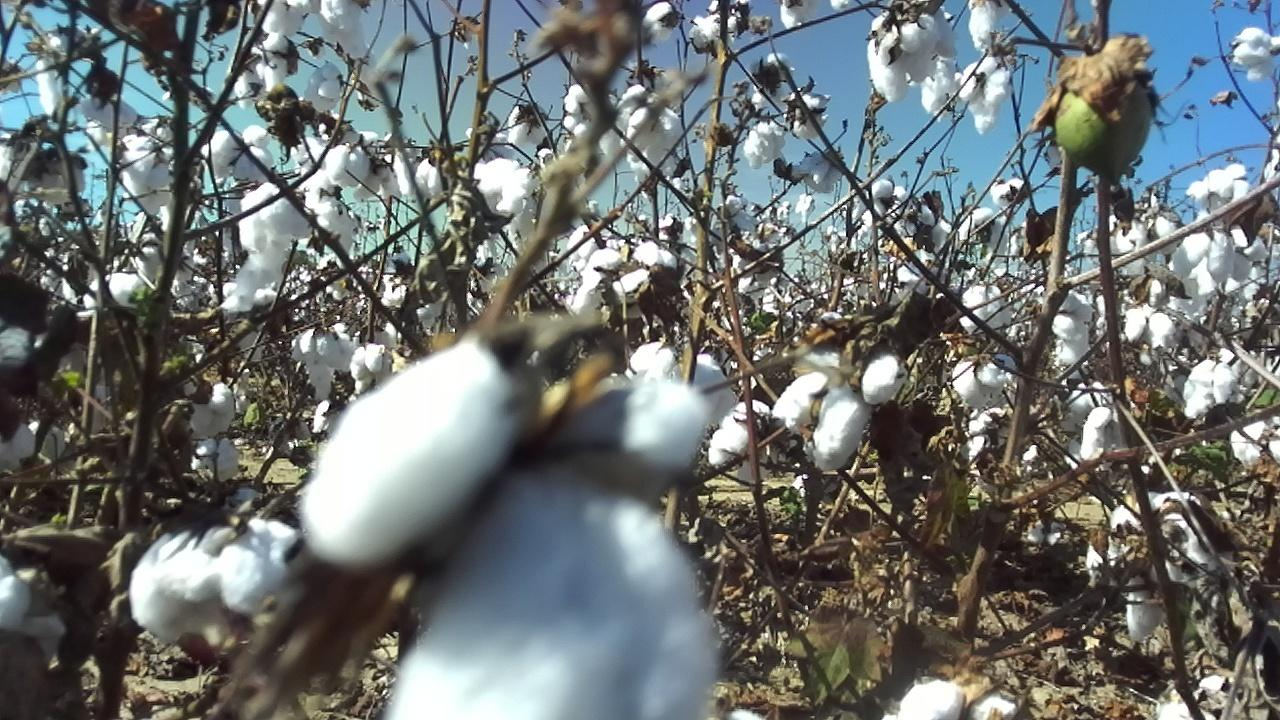cotton_ready: (301, 344, 720, 720), (1086, 490, 1242, 640), (127, 517, 300, 642), (225, 180, 312, 313), (865, 4, 959, 105), (772, 374, 865, 470), (629, 345, 740, 422), (708, 399, 800, 485), (604, 87, 685, 177), (258, 0, 367, 59), (0, 550, 69, 642), (884, 677, 1016, 720), (1109, 205, 1182, 278), (36, 25, 88, 126), (231, 30, 295, 109), (293, 322, 356, 400), (1170, 229, 1252, 286), (119, 136, 177, 215), (957, 59, 1011, 137), (953, 352, 1019, 414), (572, 247, 622, 323), (1181, 357, 1242, 419), (199, 127, 276, 176), (612, 240, 676, 298), (0, 418, 72, 469), (794, 310, 847, 378), (474, 157, 533, 217), (1189, 162, 1251, 217), (75, 96, 143, 146), (1052, 284, 1091, 365), (1056, 382, 1110, 435), (84, 270, 147, 313), (961, 284, 1014, 334), (1232, 29, 1280, 83), (1229, 417, 1280, 466), (314, 196, 359, 251), (862, 356, 910, 404), (792, 148, 843, 193), (324, 144, 370, 192), (354, 163, 404, 206), (1080, 404, 1115, 464), (967, 0, 1006, 50), (565, 85, 597, 142)
